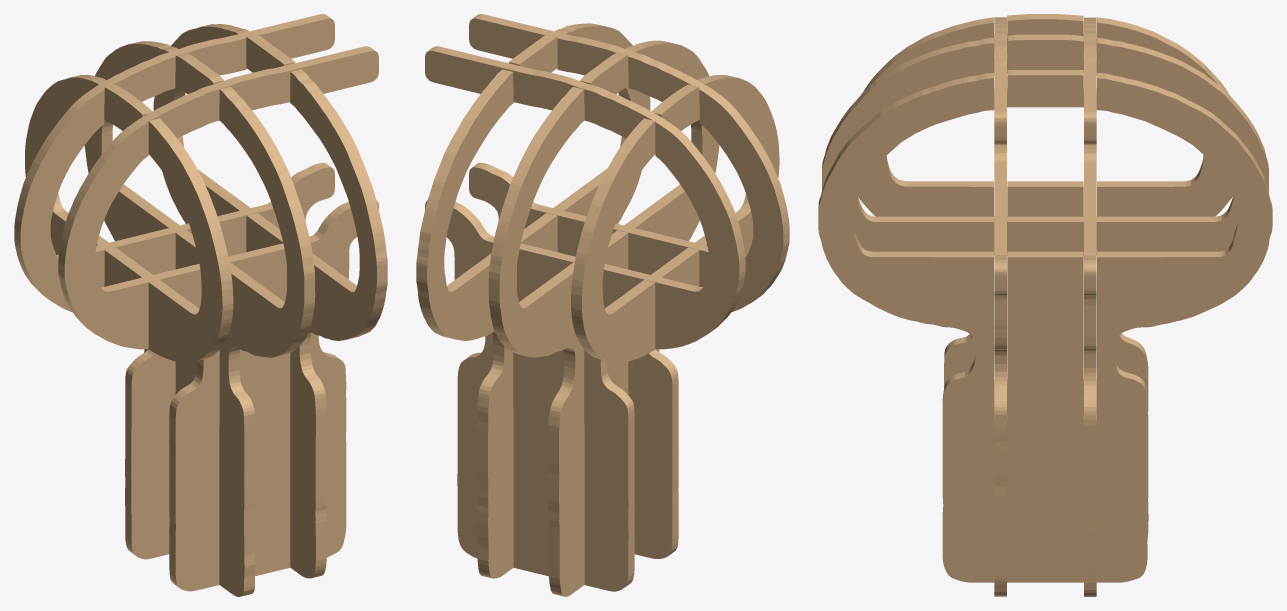
File: samla.glb
3 renders of one model, left to right at view 1: azimuth 30°, elevation 25°; view 2: azimuth 150°, elevation 25°; view 3: azimuth 270°, elevation 25°, orthographic.
Parts seen in each view (by area): view 1: slicer-kvelvstemning; view 2: slicer-kvelvstemning; view 3: slicer-kvelvstemning.
Boxes of the visible parts, bbox=[...] form: slicer-kvelvstemning: bbox=[14, 14, 387, 596]; slicer-kvelvstemning: bbox=[416, 14, 789, 596]; slicer-kvelvstemning: bbox=[818, 14, 1272, 596].
Size of the model in its own units: 0.1154 by 0.1749 by 0.1419.
